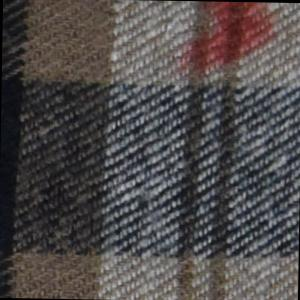Stain: (174, 2, 278, 89)
